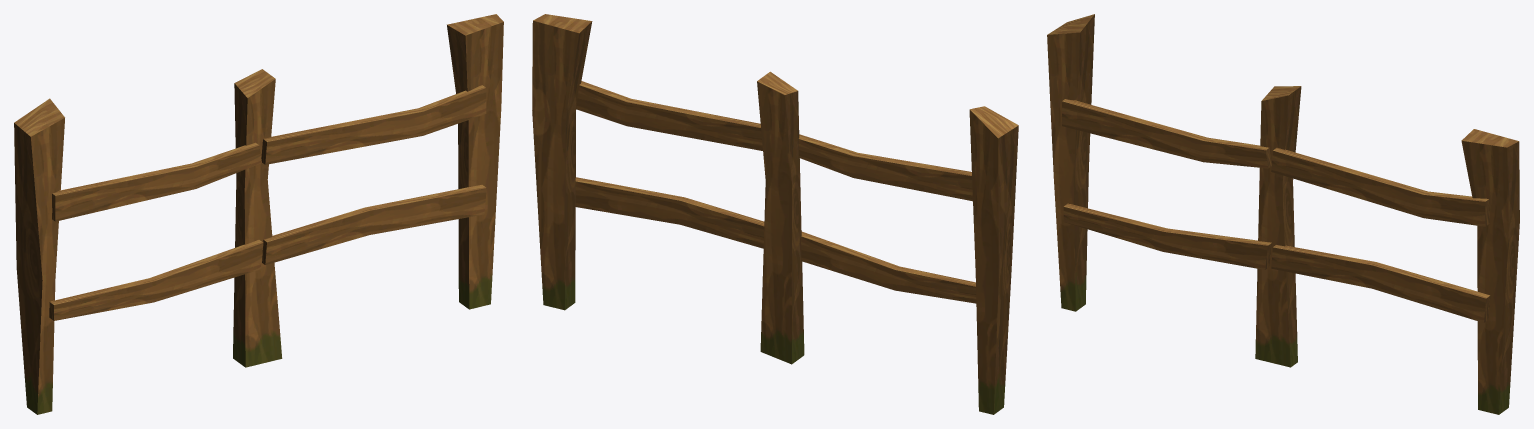
File: fenceClosed.fbx
3 views of the same model, side by side, from view 1: azimuth 30°, elevation 25°; view 2: azimuth 150°, elevation 25°; view 3: azimuth 330°, elevation 25° (orthographic). The views are drawn at different scales.
Visible parts, largest first — view 1: FenceClosed; view 2: FenceClosed; view 3: FenceClosed.
Part boxes in pixels (x1,y1,x2,y2): FenceClosed: (14, 14, 503, 414); FenceClosed: (532, 14, 1018, 414); FenceClosed: (1047, 14, 1519, 414).
Size of the model in its own units: 3.41 by 2.06 by 0.2871.
